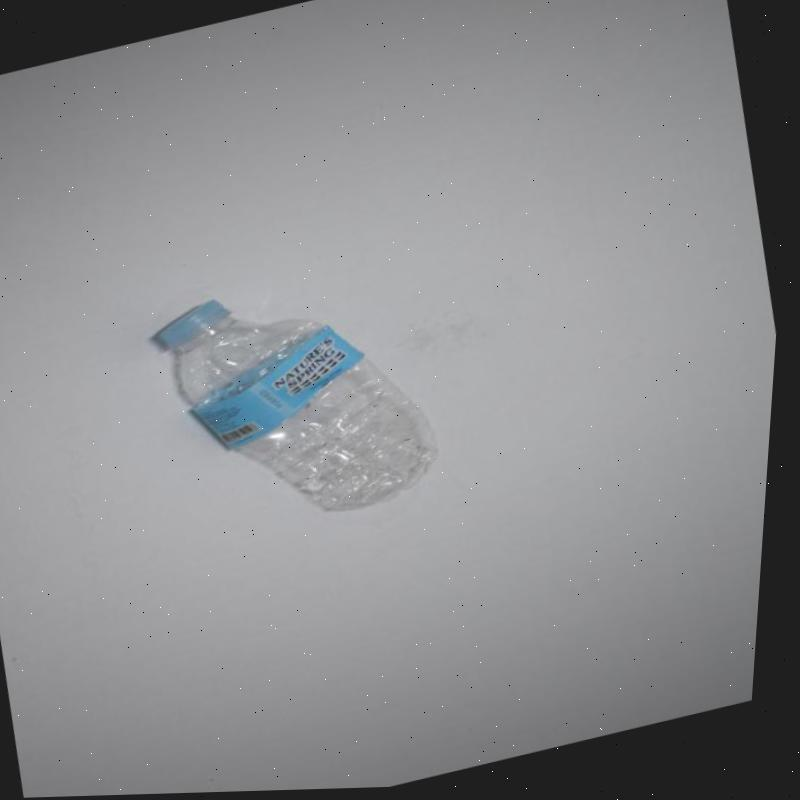botella: (138, 255, 461, 551)
